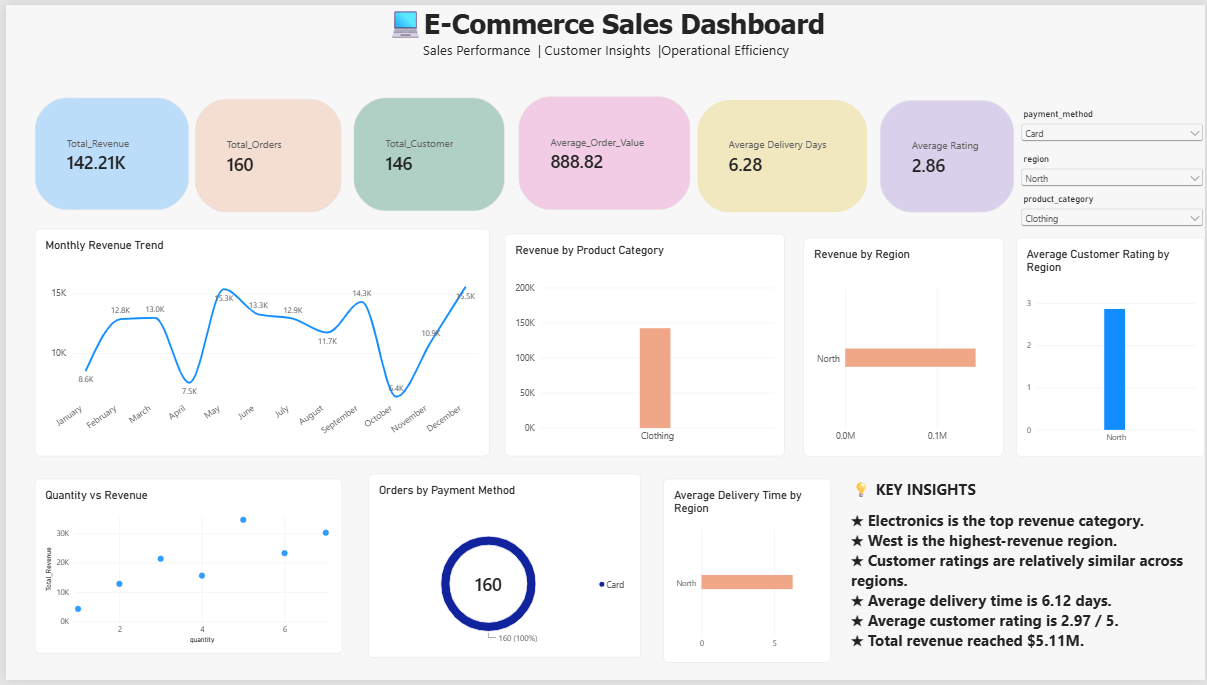

The page's visual inventory and layout, read from the dashboard file:
{"tool":"powerbi","page":{"name":"Page 1","canvas":[1920,1080],"ordinal":0},"visuals":[{"type":"cardVisual","fields":{"Data":["ecommerce_sales_cleaned.Total_Revenue"]},"box":[45,147.5,247.5,180],"z":0},{"type":"cardVisual","fields":{"Data":["ecommerce_sales_cleaned.Total_Orders"]},"box":[302.5,150,235,182.5],"z":1000},{"type":"cardVisual","fields":{"Data":["ecommerce_sales_cleaned.Total_Customer"]},"box":[555,147.5,242.5,182.5],"z":2000},{"type":"cardVisual","fields":{"Data":["ecommerce_sales_cleaned.Average_Order_Value"]},"box":[820,145,275,182.5],"z":3000},{"type":"cardVisual","fields":{"Data":["ecommerce_sales_cleaned.Average Rating"]},"box":[1397.5,152.5,215,180],"z":4000},{"type":"lineChart","title":"Monthly Revenue Trend","fields":{"Category":["ecommerce_sales_cleaned.month.Variation.Date Hierarchy.Month","ecommerce_sales_cleaned.month.Variation.Date Hierarchy.Day"],"Y":["ecommerce_sales_cleaned.Total_Revenue"]},"box":[46,358,728,364],"z":5000},{"type":"clusteredColumnChart","title":"Revenue by Product Category","fields":{"Category":["ecommerce_sales_cleaned.product_category"],"Y":["ecommerce_sales_cleaned.Total_Revenue"]},"box":[798,366,448,356],"z":6000},{"type":"clusteredBarChart","title":"Revenue by Region","fields":{"Category":["ecommerce_sales_cleaned.region"],"Y":["ecommerce_sales_cleaned.Total_Revenue"]},"box":[1276,372,320,350],"z":7000},{"type":"scatterChart","title":"Quantity vs Revenue","fields":{"X":["ecommerce_sales_cleaned.quantity"],"Y":["ecommerce_sales_cleaned.Total_Revenue"]},"box":[46,758,491.7,280],"z":8000},{"type":"donutChart","title":"Orders by Payment Method","fields":{"Category":["ecommerce_sales_cleaned.payment_method"],"Y":["CountNonNull(ecommerce_sales_cleaned.order_id)"]},"box":[580,750,436,294],"z":9000},{"type":"clusteredColumnChart","title":"Average Customer Rating by Region","fields":{"Category":["ecommerce_sales_cleaned.region"],"Y":["ecommerce_sales_cleaned.Average Rating"]},"box":[1616,372,304,350],"z":10000},{"type":"clusteredBarChart","title":"Average Delivery Time by Region","fields":{"Category":["ecommerce_sales_cleaned.region"],"Y":["ecommerce_sales_cleaned.Average Delivery Days"]},"box":[1052,758,268,294],"z":11000},{"type":"textbox","box":[0,0,1920,110],"z":12000},{"type":"textbox","box":[1280,1052,280,28],"z":13000},{"type":"textbox","box":[1352,758,568,294],"z":14000},{"type":"cardVisual","fields":{"Data":["ecommerce_sales_cleaned.Average Delivery Days"]},"box":[1105,152.5,272.5,180],"z":15000},{"type":"slicer","fields":{"Values":["ecommerce_sales_cleaned.product_category"]},"box":[1620,302.5,300,70],"z":15001},{"type":"slicer","fields":{"Values":["ecommerce_sales_cleaned.region"]},"box":[1620,237.5,300,60],"z":15002},{"type":"slicer","fields":{"Values":["ecommerce_sales_cleaned.payment_method"]},"box":[1620,165,300,75],"z":15003}]}

Visuals, with their boxes in screenshot pixels (x1, y1, x2, y2), scaled from the page's 1920x1080 canvas onto the 1207x685 screenshot:
cardVisual - ecommerce_sales_cleaned.Total_Revenue: {"left": 28, "top": 94, "right": 184, "bottom": 208}
cardVisual - ecommerce_sales_cleaned.Total_Orders: {"left": 190, "top": 95, "right": 338, "bottom": 211}
cardVisual - ecommerce_sales_cleaned.Total_Customer: {"left": 349, "top": 94, "right": 501, "bottom": 209}
cardVisual - ecommerce_sales_cleaned.Average_Order_Value: {"left": 515, "top": 92, "right": 688, "bottom": 208}
cardVisual - ecommerce_sales_cleaned.Average Rating: {"left": 879, "top": 97, "right": 1014, "bottom": 211}
"Monthly Revenue Trend" lineChart: {"left": 29, "top": 227, "right": 487, "bottom": 458}
"Revenue by Product Category" clusteredColumnChart: {"left": 502, "top": 232, "right": 783, "bottom": 458}
"Revenue by Region" clusteredBarChart: {"left": 802, "top": 236, "right": 1003, "bottom": 458}
"Quantity vs Revenue" scatterChart: {"left": 29, "top": 481, "right": 338, "bottom": 658}
"Orders by Payment Method" donutChart: {"left": 365, "top": 476, "right": 639, "bottom": 662}
"Average Customer Rating by Region" clusteredColumnChart: {"left": 1016, "top": 236, "right": 1206, "bottom": 458}
"Average Delivery Time by Region" clusteredBarChart: {"left": 661, "top": 481, "right": 830, "bottom": 667}
textbox: {"left": 0, "top": 0, "right": 1206, "bottom": 70}
textbox: {"left": 805, "top": 667, "right": 981, "bottom": 684}
textbox: {"left": 850, "top": 481, "right": 1206, "bottom": 667}
cardVisual - ecommerce_sales_cleaned.Average Delivery Days: {"left": 695, "top": 97, "right": 866, "bottom": 211}
slicer - ecommerce_sales_cleaned.product_category: {"left": 1018, "top": 192, "right": 1206, "bottom": 236}
slicer - ecommerce_sales_cleaned.region: {"left": 1018, "top": 151, "right": 1206, "bottom": 189}
slicer - ecommerce_sales_cleaned.payment_method: {"left": 1018, "top": 105, "right": 1206, "bottom": 152}
